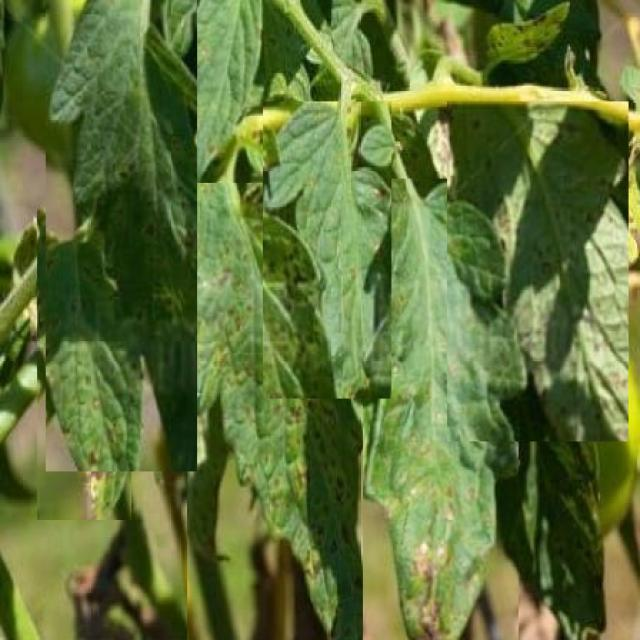Septoria: (187, 163, 364, 640), (362, 178, 518, 640), (46, 0, 197, 471), (447, 101, 629, 442), (264, 102, 392, 398), (37, 198, 132, 521), (191, 0, 265, 183)
